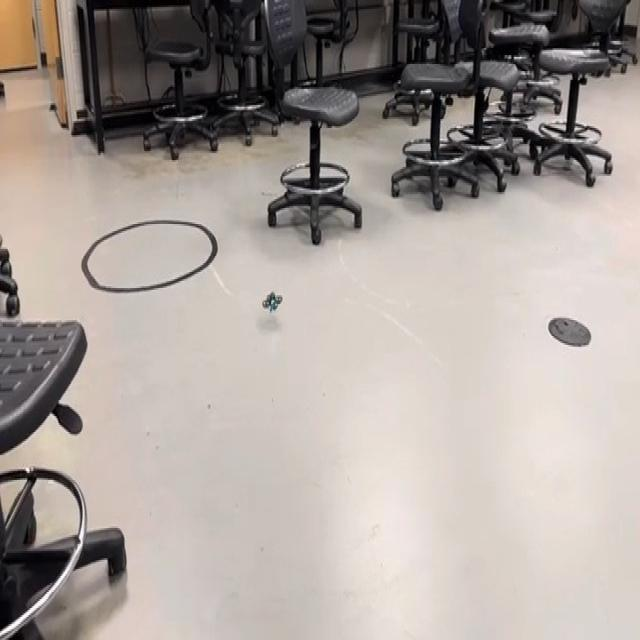drone: (255, 278, 290, 324)
